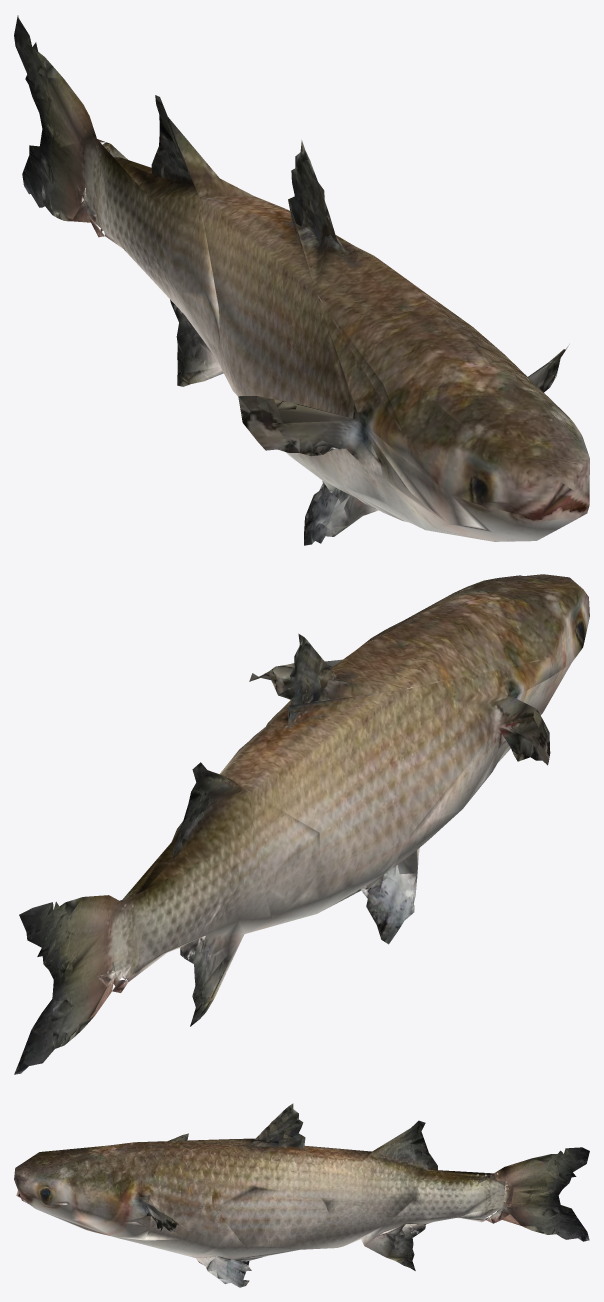
Rendered from lisa.glb.
3 renders of one model, top to bottom at view 1: azimuth 30°, elevation 25°; view 2: azimuth 150°, elevation 25°; view 3: azimuth 270°, elevation 25°, orthographic. The views are drawn at different scales.
Visible parts, largest first — view 1: lo; view 2: lo; view 3: lo.
Boxes of the visible parts, box(x1,y1,x2,y2) form: lo: box(14, 15, 589, 545); lo: box(14, 574, 589, 1074); lo: box(14, 1103, 589, 1287).
Size of the model in its own units: 0.3271 by 0.344 by 0.9859.
Materials: 1 (1 with a texture image).
